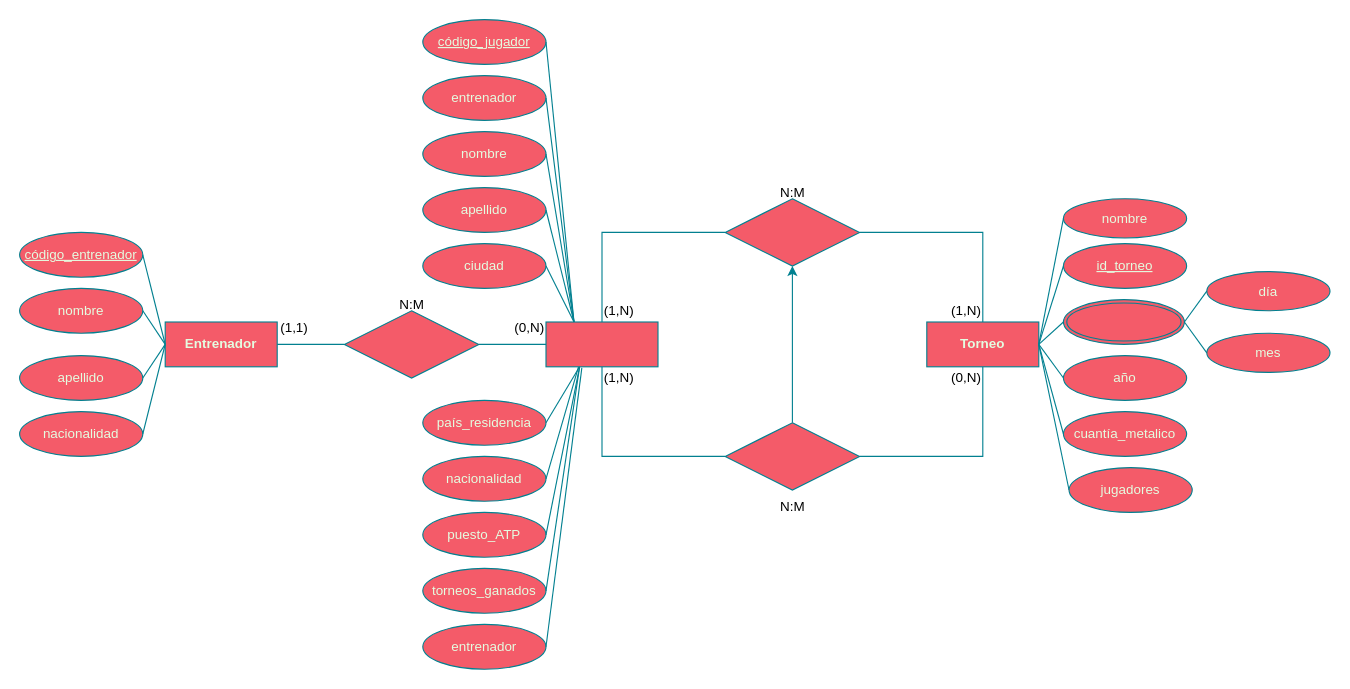
The diagram is 1350 pixels wide and 689 high, and some of its shapes have lost their labels. The centre of each missing label's shape, as x and y in pixels:
"Entrenar" belongs at [411,344].
"fecha" belongs at [1123,321].
"Ganar" belongs at [792,456].
"Jugador" belongs at [601,344].
"Participar" belongs at [792,232].
